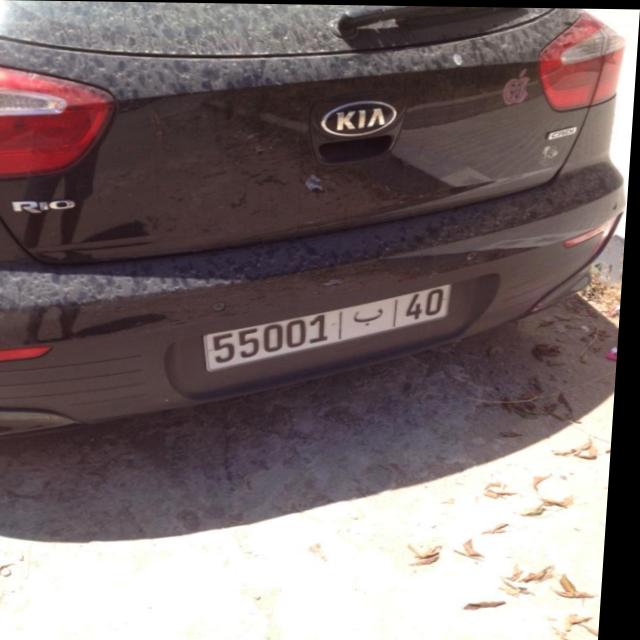License-Plate: (207, 283, 455, 370)
